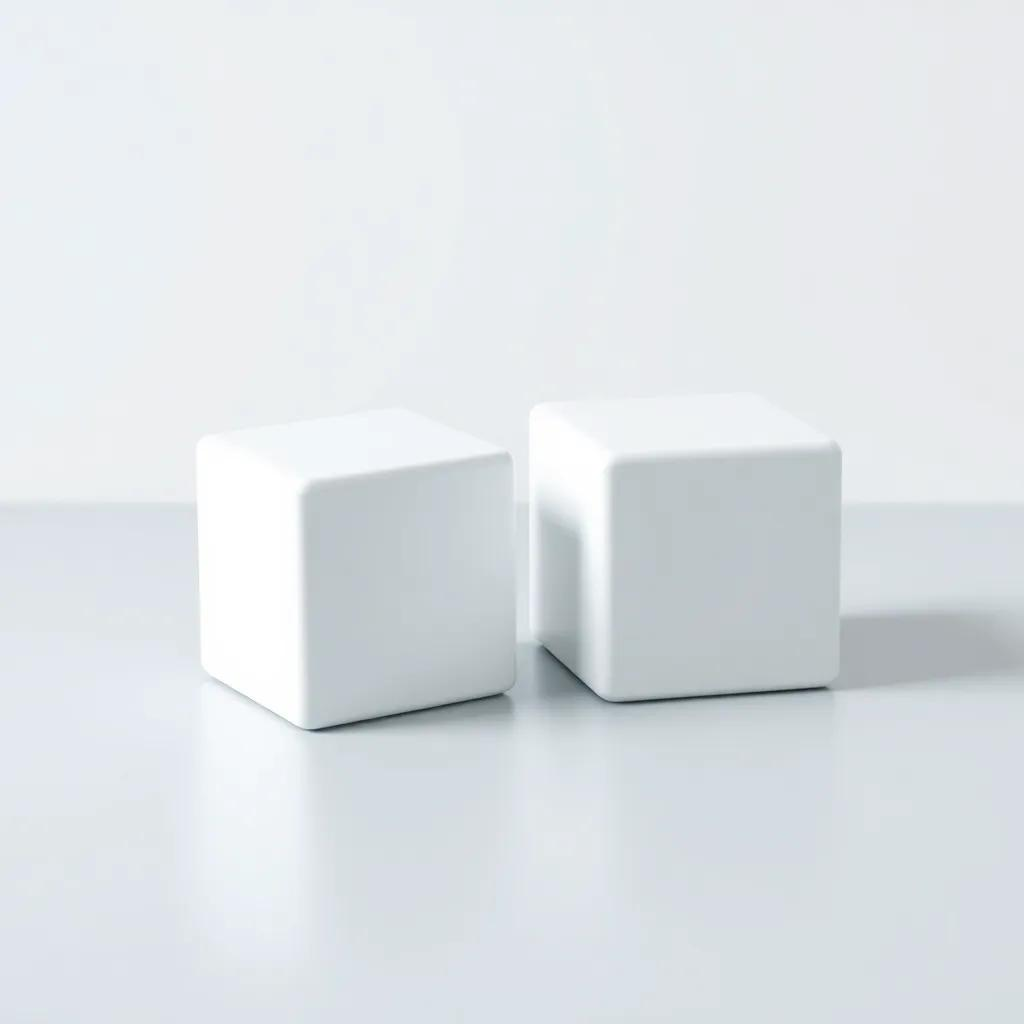cube: (194, 404, 517, 730), (526, 389, 842, 703)
